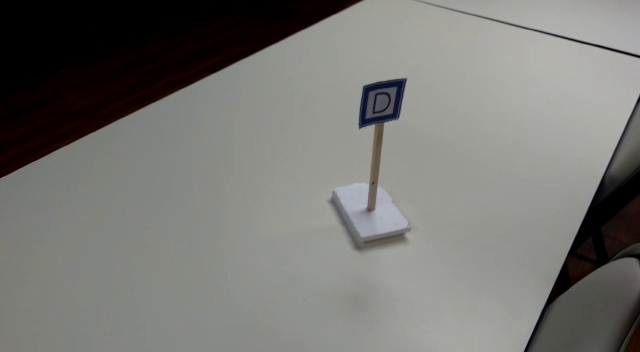durak: (361, 81, 405, 124)
